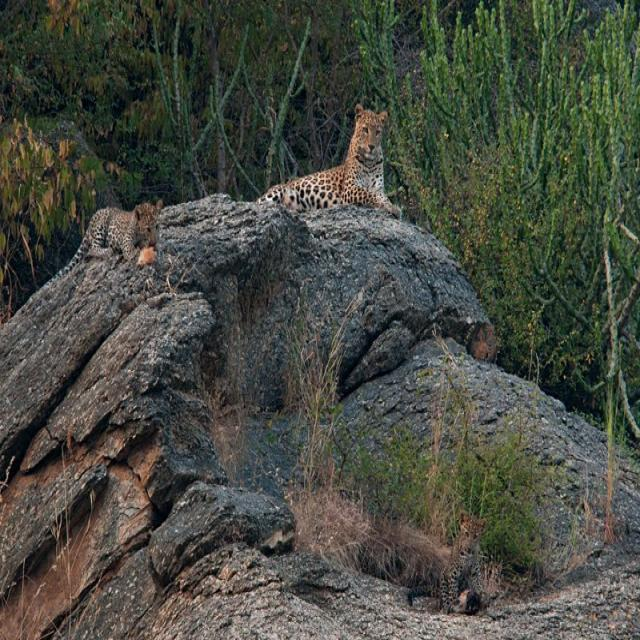Leopard: (259, 106, 393, 209), (56, 194, 165, 279)
